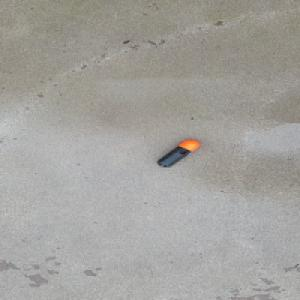PlasticPart: (156, 139, 200, 167)
